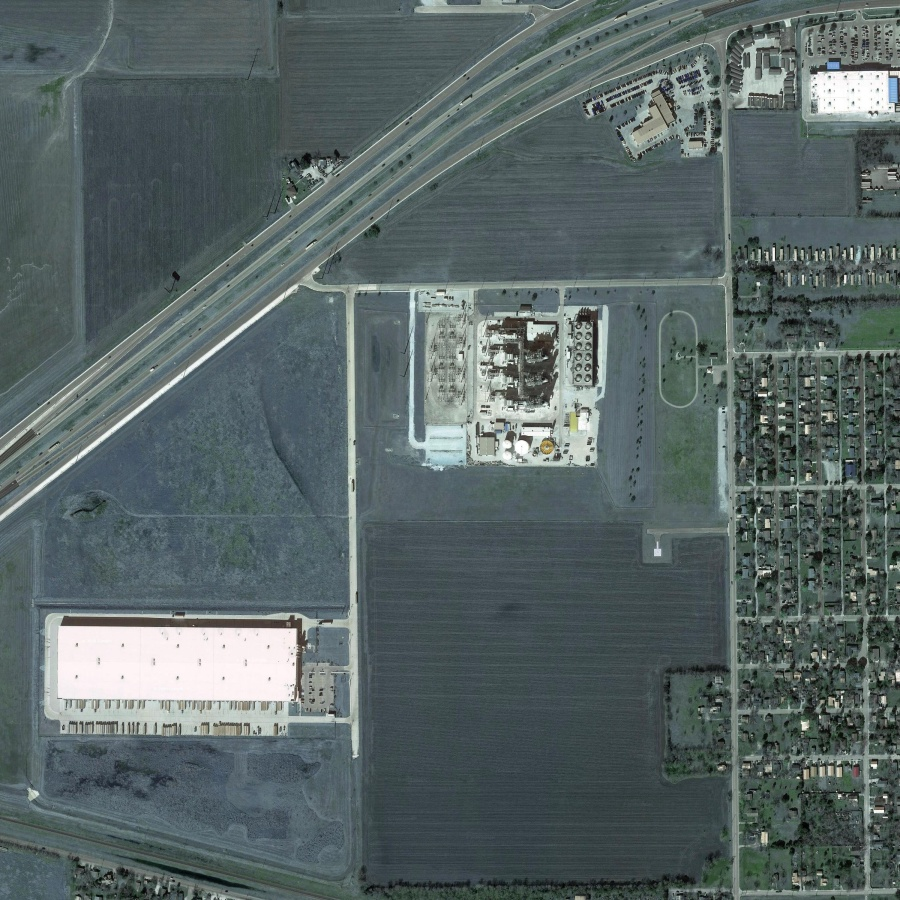PowerPlant: (411, 284, 605, 473)
